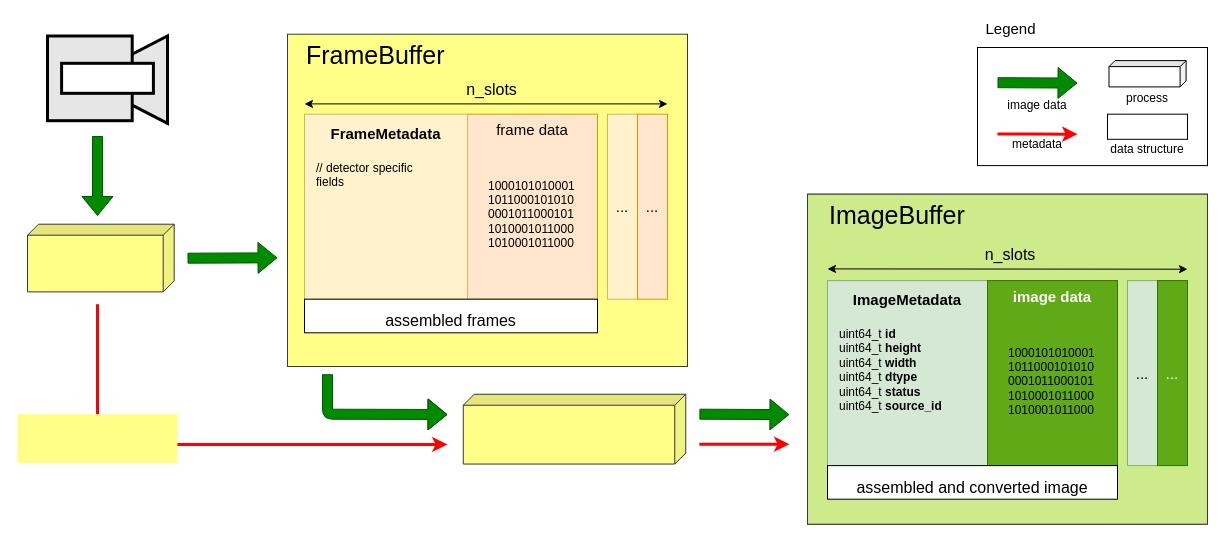
This 1225x542 diagram has some shape labels left out. Here are the shapes that lost their labels. From the top down, the centre of each, then its label:
(107,77): Detector
(100,257): std_udp_recv
(97,438): image_id
(574,428): std_data_converter
